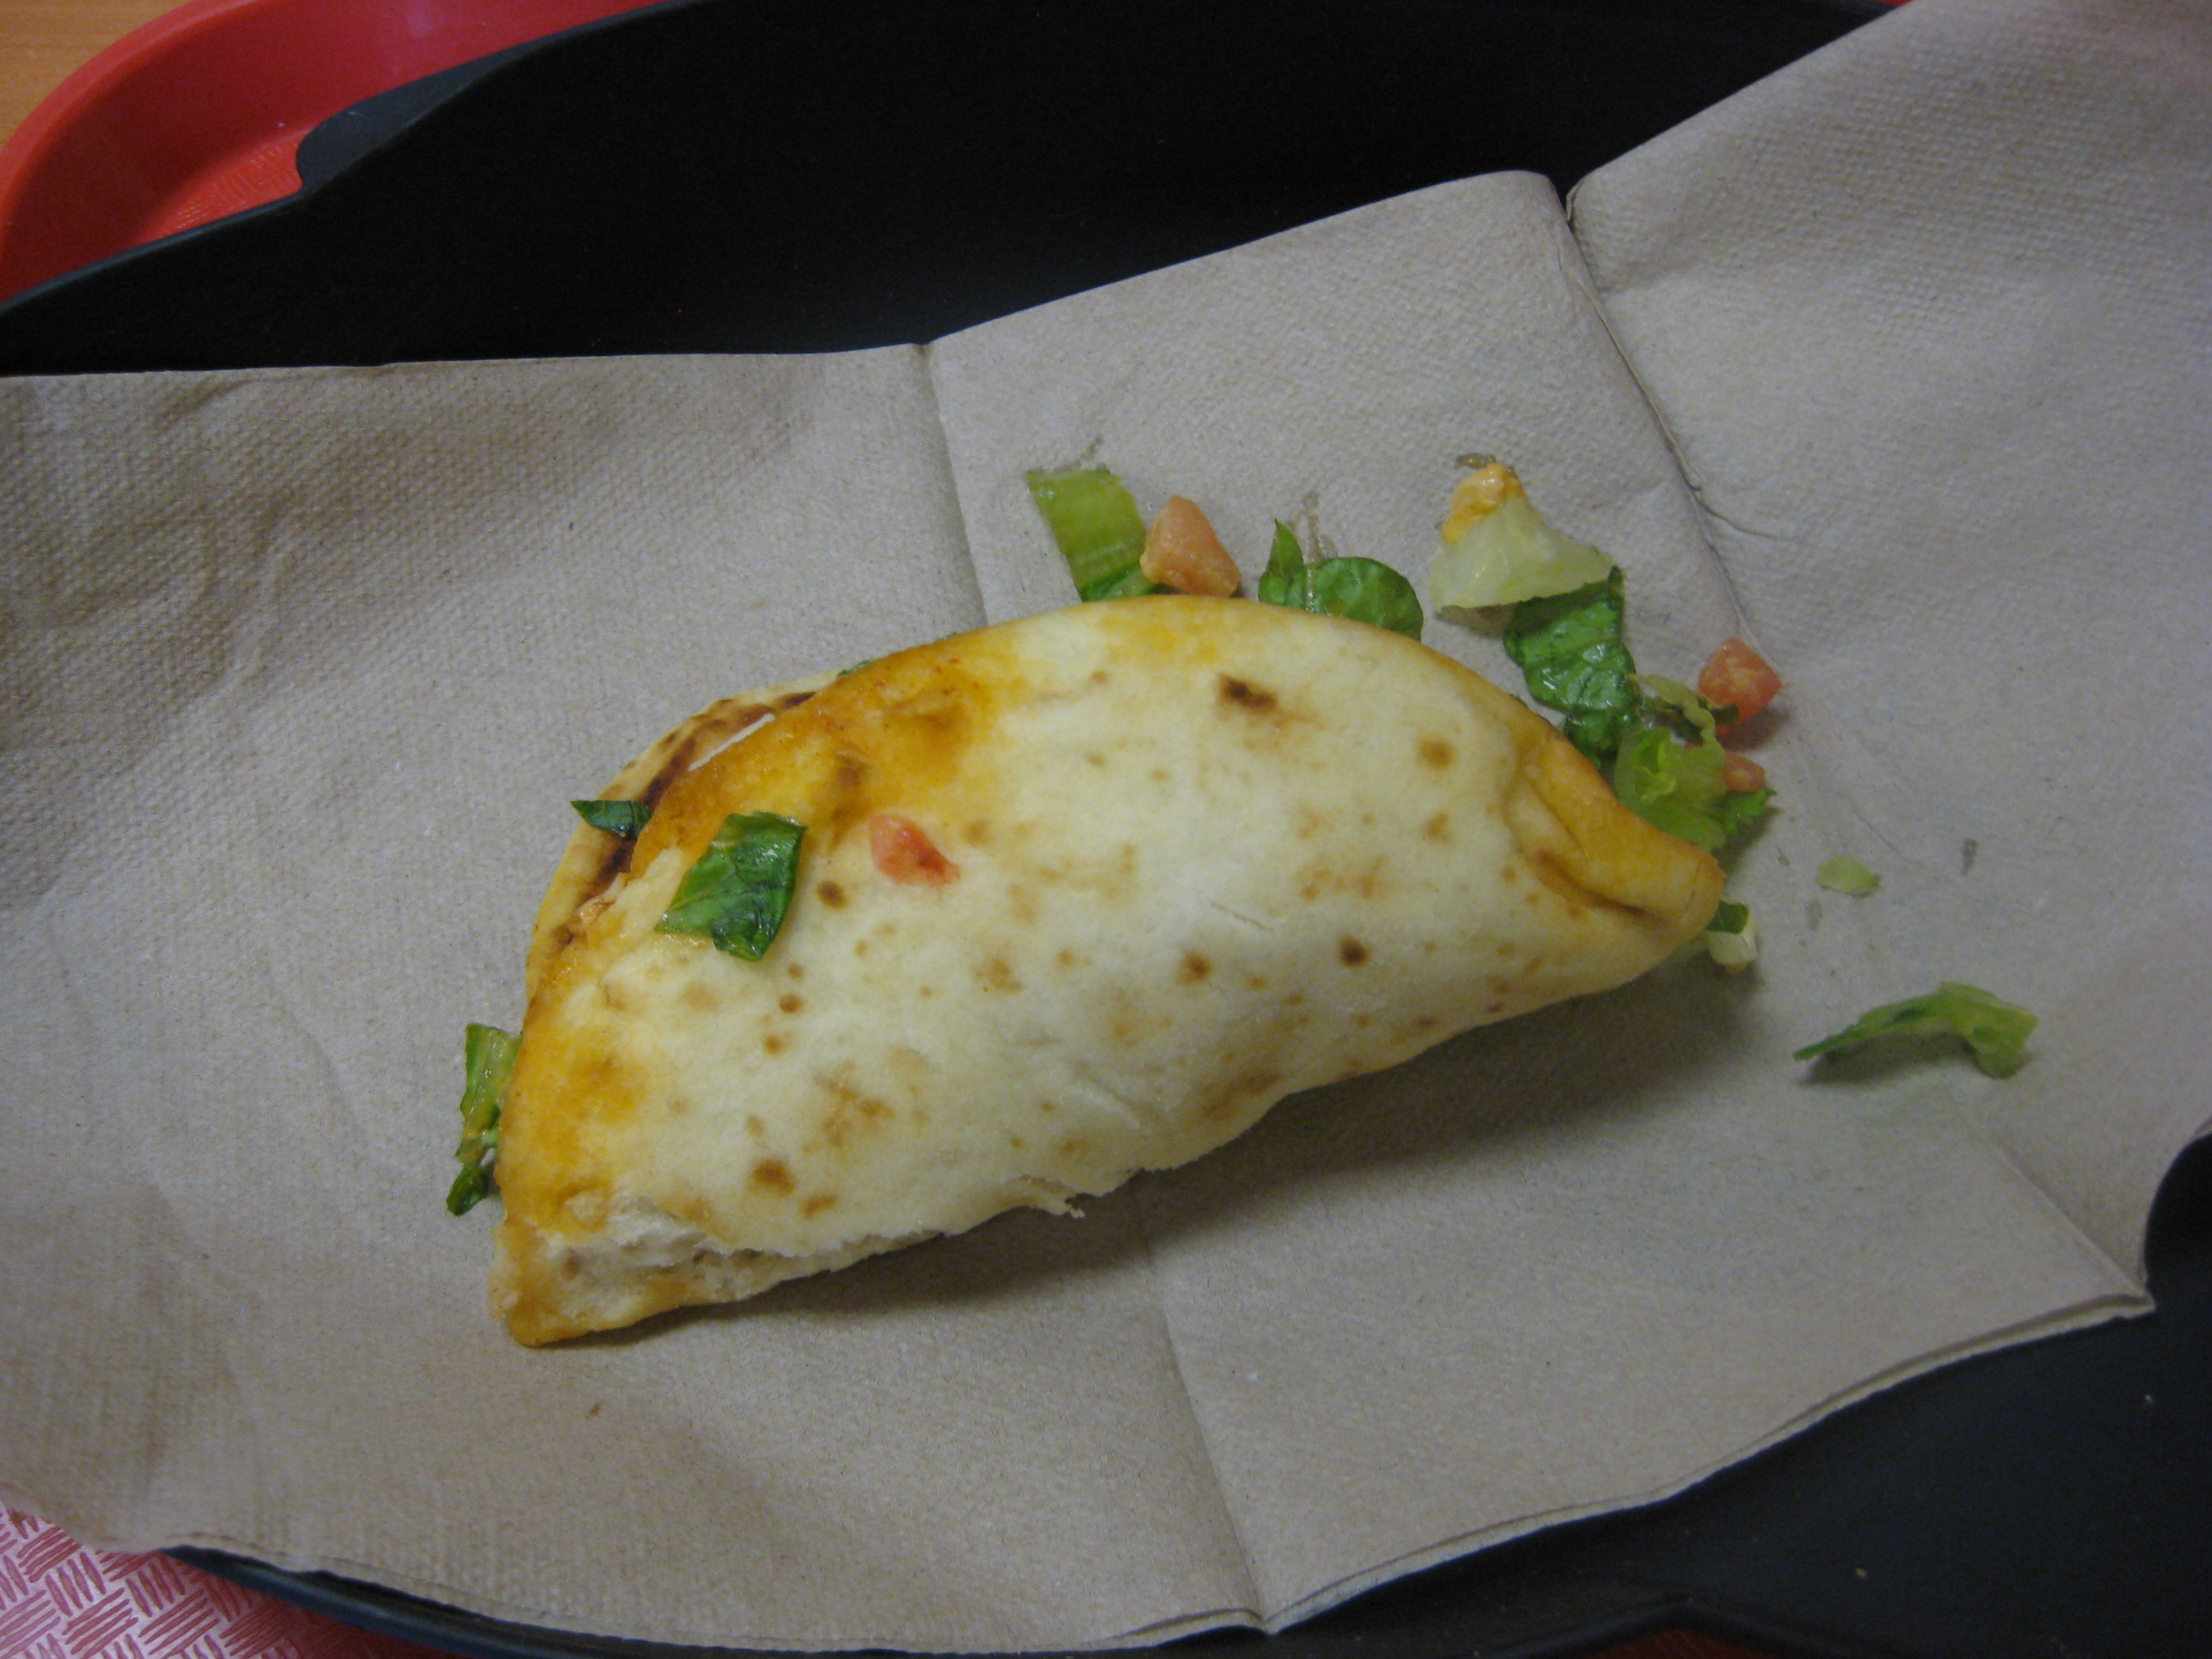taco: (463, 575, 1926, 1371)
